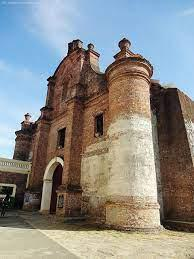santa_maria_church_santa_maria_ilocos_sur: (9, 33, 166, 235)
unfinished_paint: (78, 114, 159, 209)
